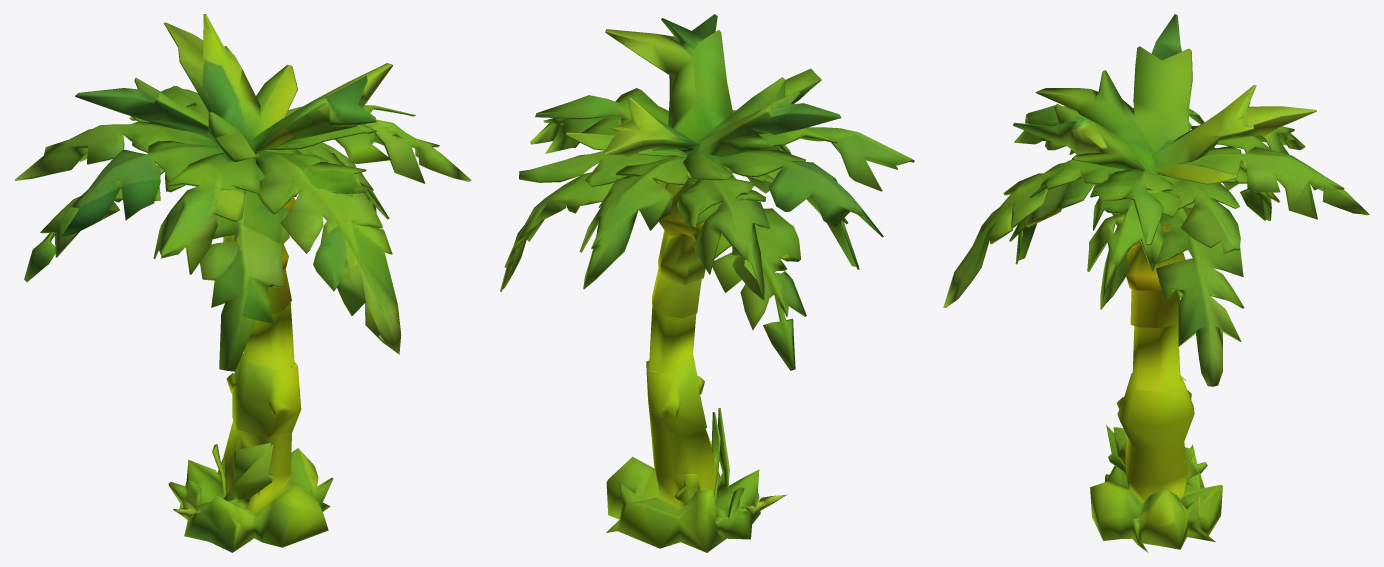
File: palmeira.glb
3 renders of one model, left to right at view 1: azimuth 30°, elevation 25°; view 2: azimuth 150°, elevation 25°; view 3: azimuth 270°, elevation 25°, orthographic. The views are drawn at different scales.
Visible parts, largest first — view 1: tripo_node_e419ef82-dc73-46d1-a8d7-87d46f5034b4; view 2: tripo_node_e419ef82-dc73-46d1-a8d7-87d46f5034b4; view 3: tripo_node_e419ef82-dc73-46d1-a8d7-87d46f5034b4.
Part boxes in pixels (<box>): tripo_node_e419ef82-dc73-46d1-a8d7-87d46f5034b4: <box>15,14,471,552</box>; tripo_node_e419ef82-dc73-46d1-a8d7-87d46f5034b4: <box>500,14,914,552</box>; tripo_node_e419ef82-dc73-46d1-a8d7-87d46f5034b4: <box>943,14,1369,552</box>.
Bounding box in the file's own units: 0.8438 × 0.9778 × 0.8668.
1 material, 1 textured.
